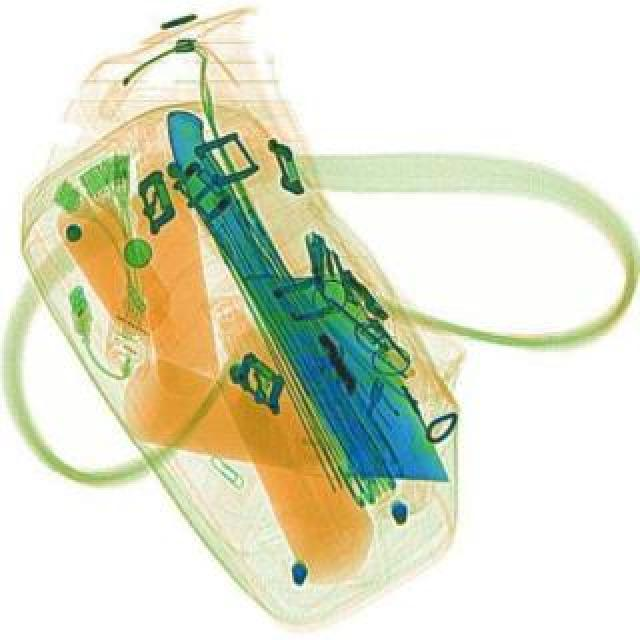knife: (148, 84, 456, 524)
